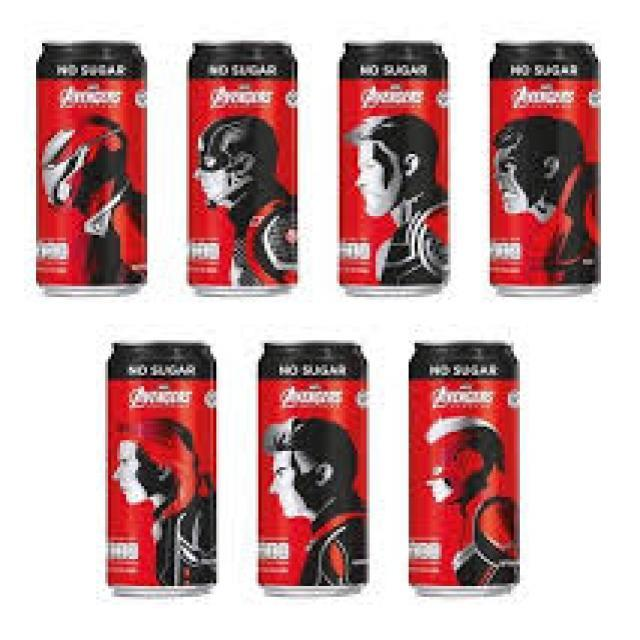coca-cola: (98, 333, 226, 602), (183, 38, 307, 302), (252, 337, 376, 601), (33, 36, 153, 300), (486, 36, 606, 300), (406, 338, 526, 602), (337, 34, 455, 298)
